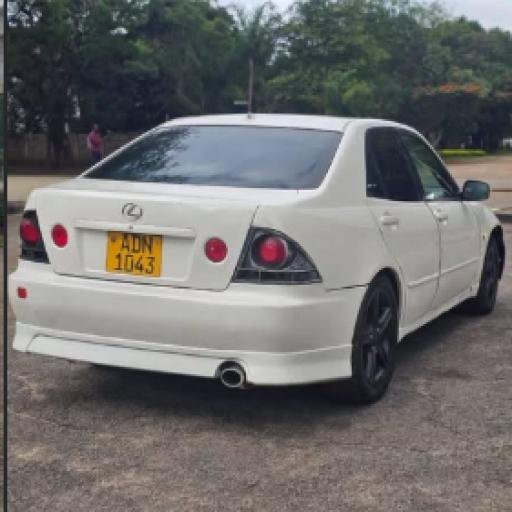number-plates: (106, 228, 164, 275)
